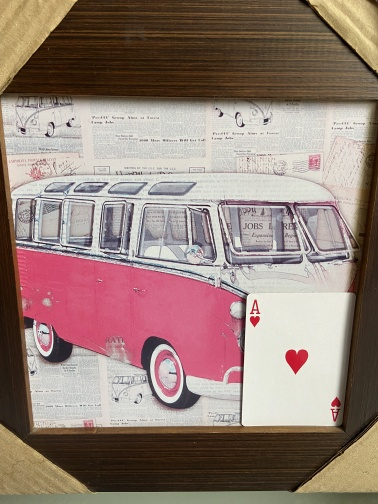ace: (240, 291, 357, 427)
